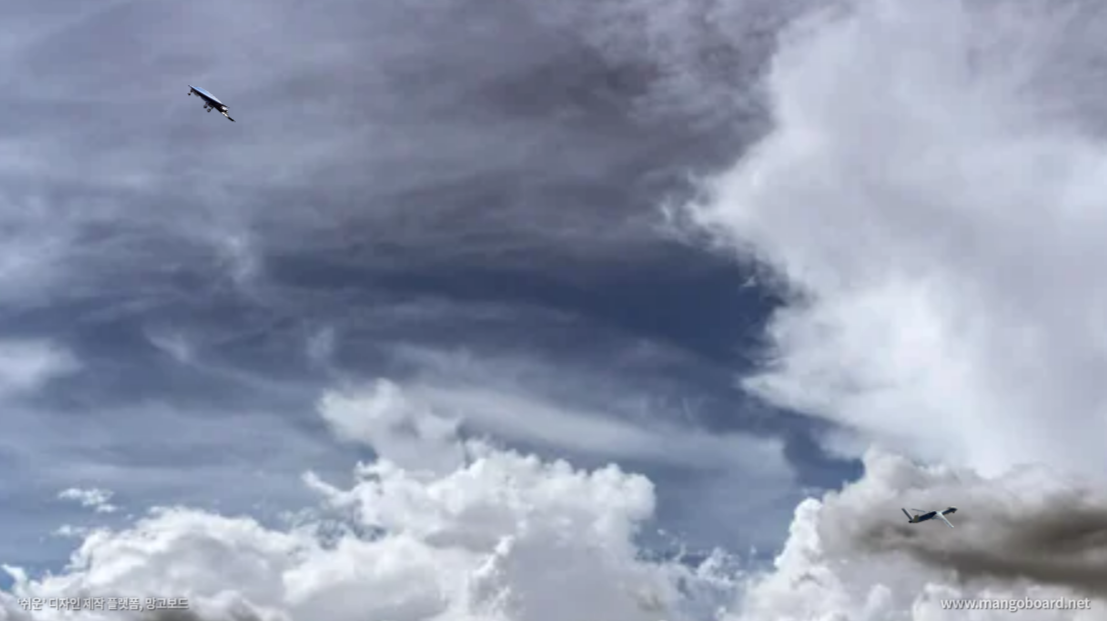military drone: (187, 84, 236, 123), (900, 505, 958, 528)
